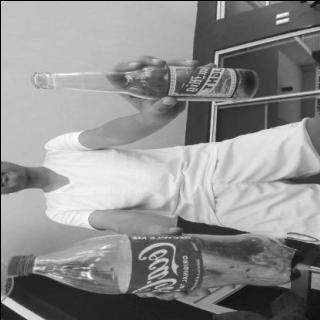plastic_bottles: (9, 228, 306, 291)
